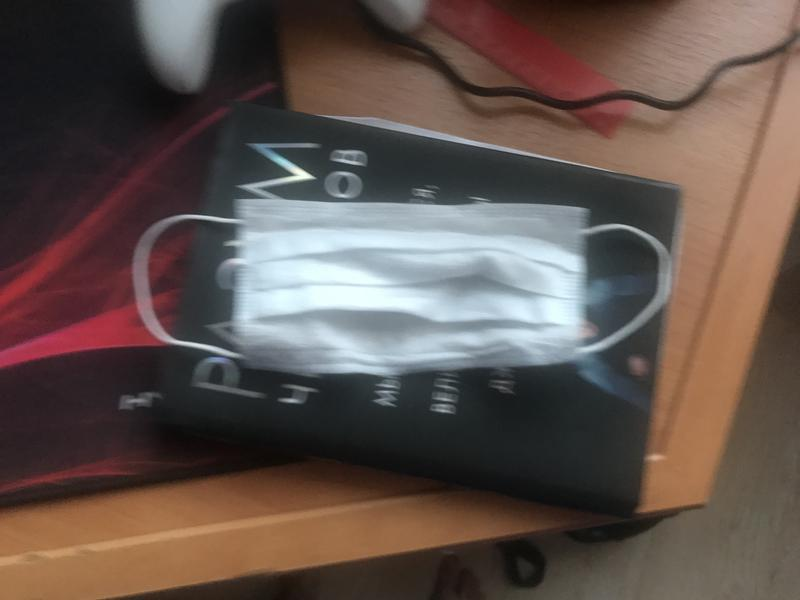medical_mask: (133, 200, 669, 366)
